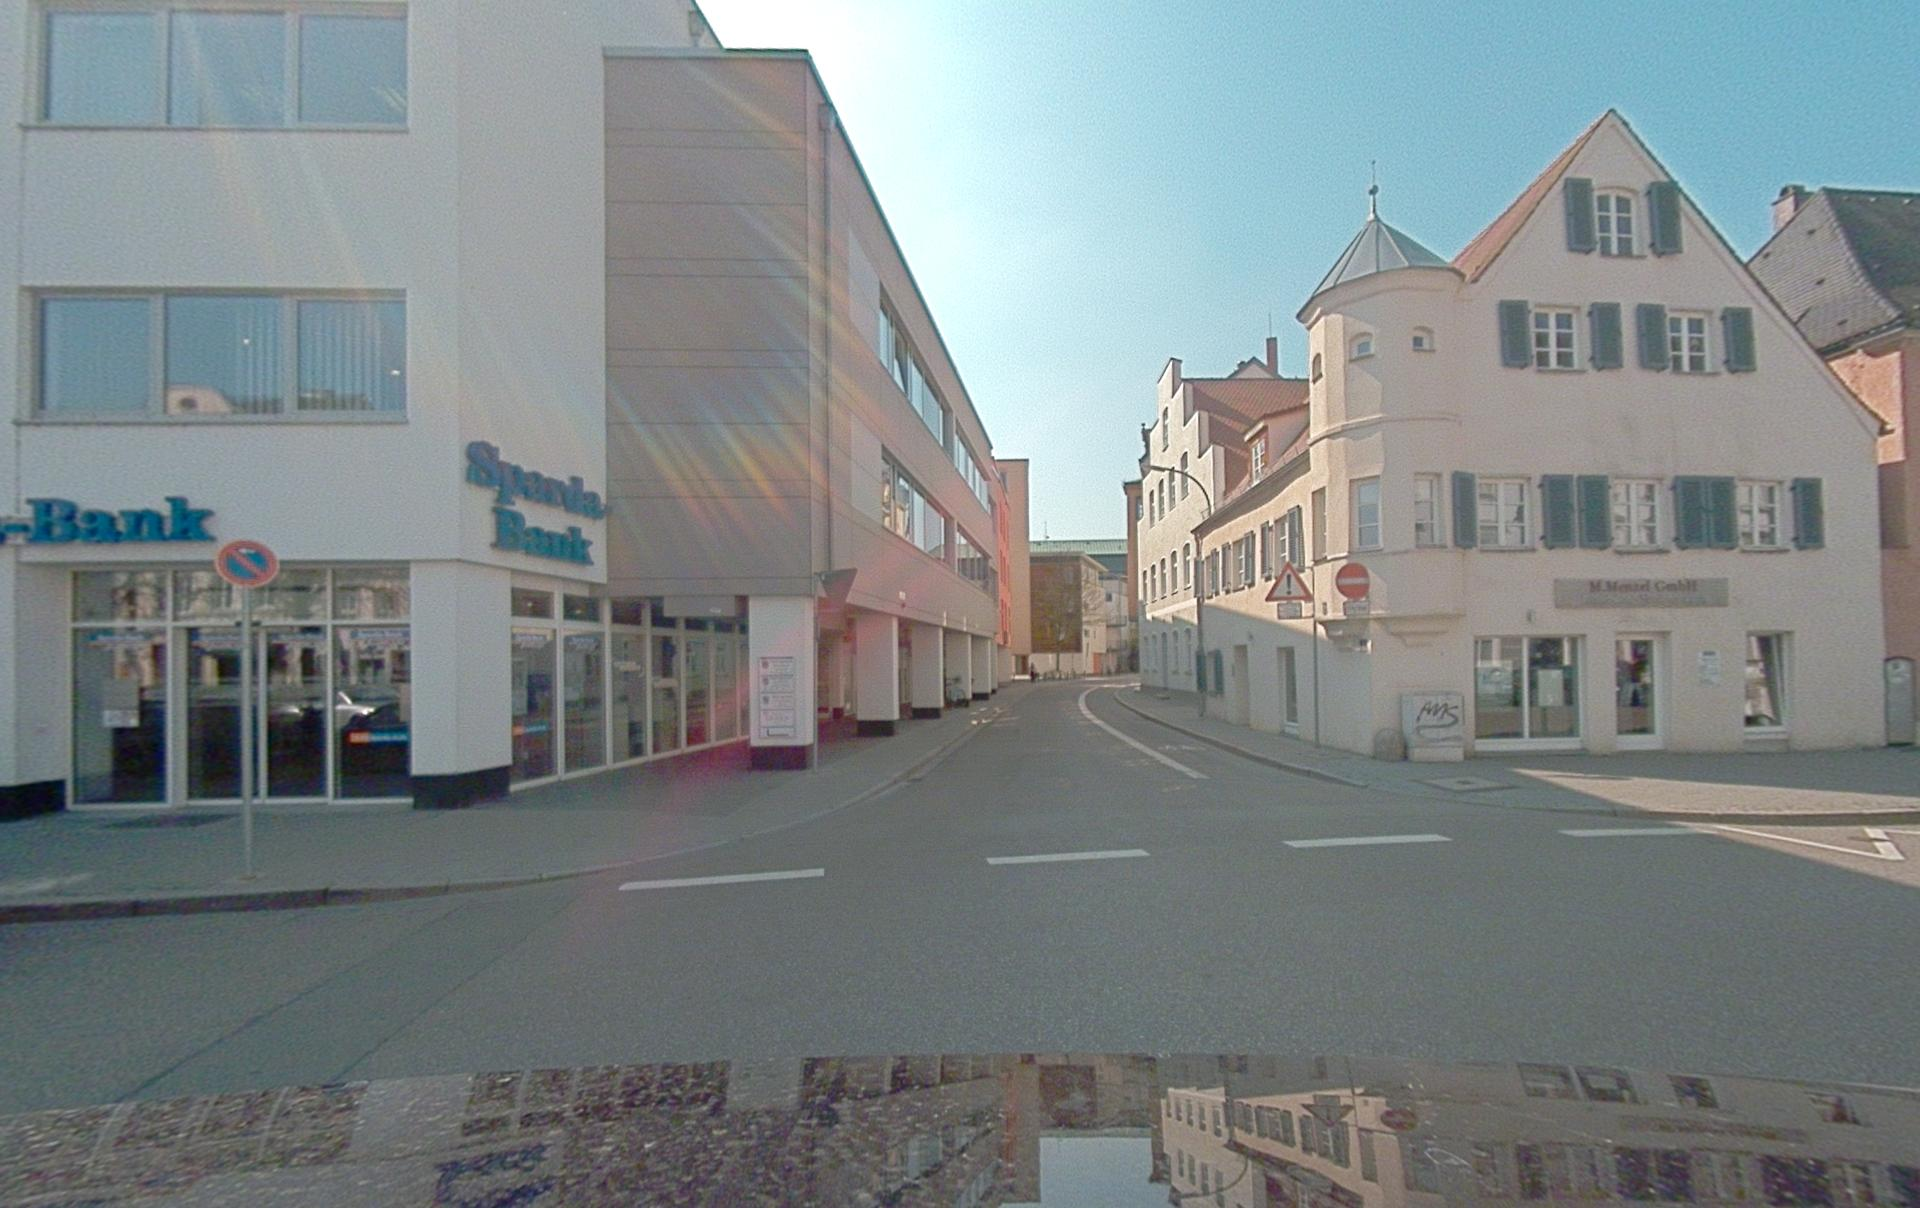traffic sign: (1263, 564, 1313, 603)
